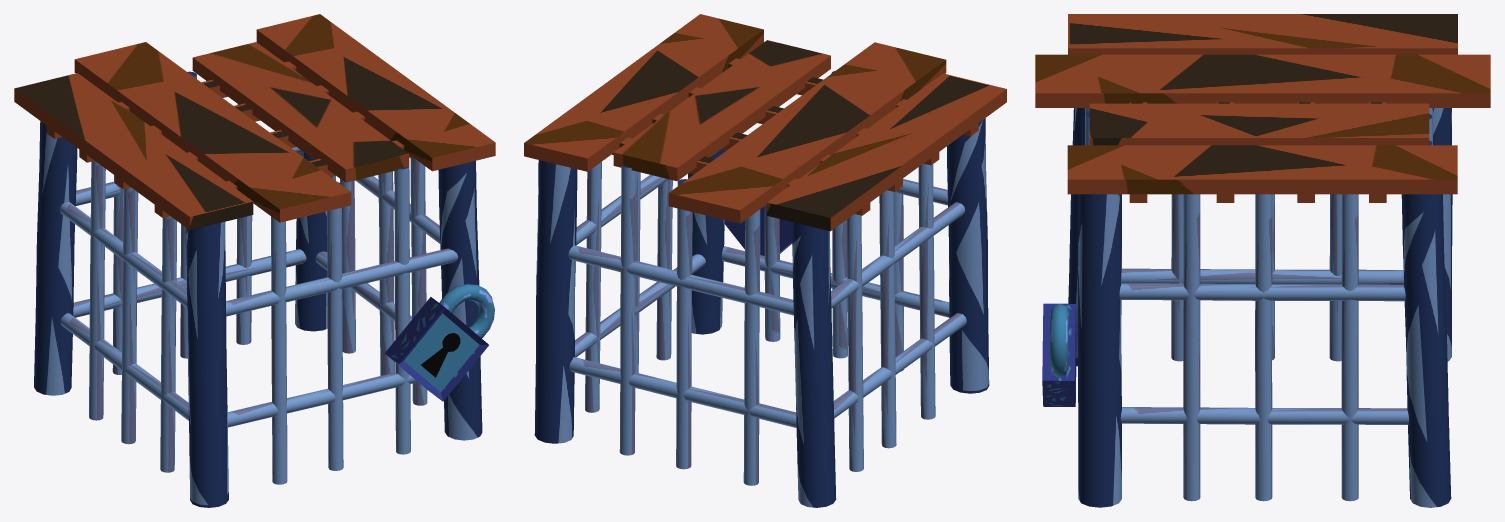
File: GRP_PRMC_Jaula.FBX
3 views of the same model, side by side, from view 1: azimuth 30°, elevation 25°; view 2: azimuth 150°, elevation 25°; view 3: azimuth 270°, elevation 25° (orthographic). The views are drawn at different scales.
Parts seen in each view (by area): view 1: PRMC_Jaula_Techo, PRMC_Jaula, PRMC_Jaula_Puerta, PRMC_Candado; view 2: PRMC_Jaula, PRMC_Jaula_Techo, PRMC_Jaula_Puerta, PRMC_Candado; view 3: PRMC_Jaula_Techo, PRMC_Jaula, PRMC_Candado, PRMC_Jaula_Puerta.
Boxes of the visible parts, x1,y1,x2,y2 form: PRMC_Jaula_Techo: (14, 14, 495, 230); PRMC_Jaula: (34, 71, 482, 472); PRMC_Jaula_Puerta: (186, 166, 458, 507); PRMC_Candado: (384, 284, 494, 401); PRMC_Jaula: (534, 149, 966, 507); PRMC_Jaula_Techo: (524, 14, 1006, 231); PRMC_Jaula_Puerta: (721, 71, 989, 393); PRMC_Candado: (724, 206, 792, 255); PRMC_Jaula_Techo: (1035, 14, 1490, 202); PRMC_Jaula: (1077, 108, 1452, 507); PRMC_Candado: (1042, 303, 1076, 406); PRMC_Jaula_Puerta: (1068, 108, 1089, 366).
Bounding box in the file's own units: 2.41 × 2.23 × 2.8.
